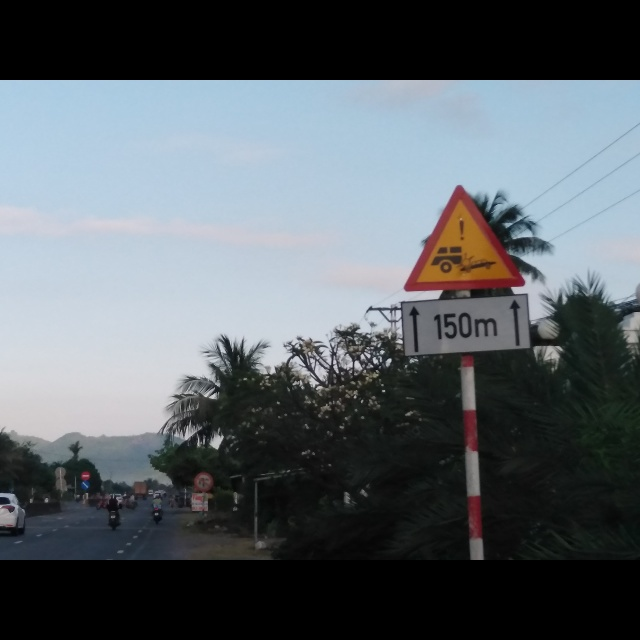Đoạn đường hay xảy ra tai nạn: (401, 180, 526, 292)
